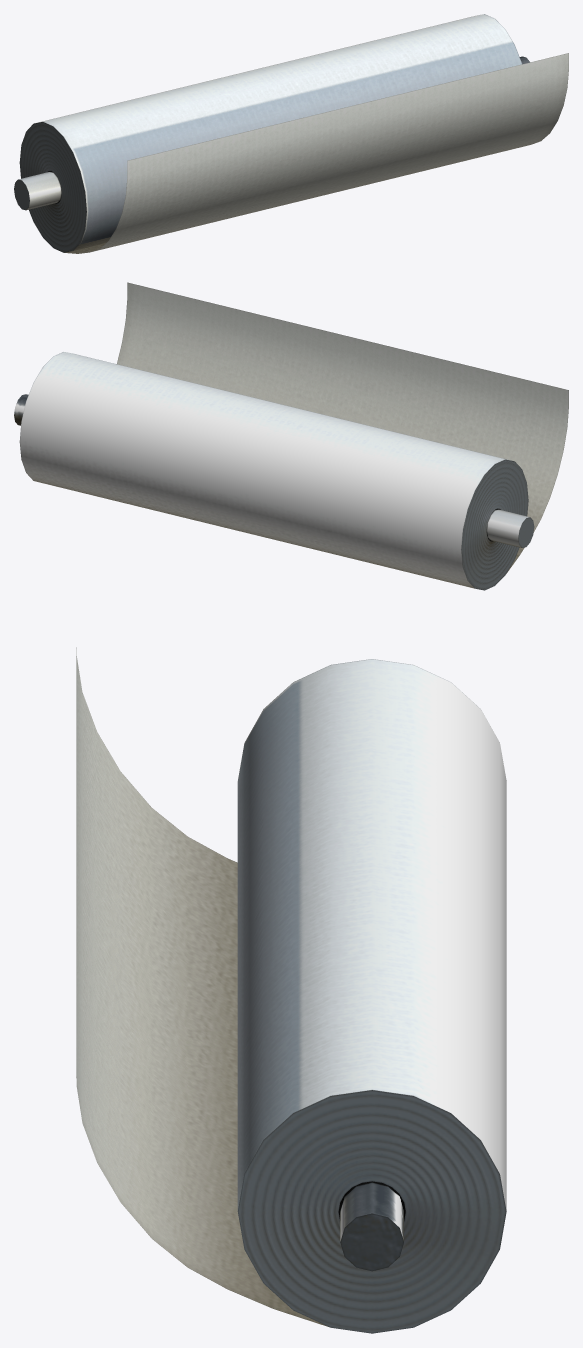
The model's file is cloth01.obj.
The picture shows the model from 3 angles, top to bottom: view 1: azimuth 30°, elevation 25°; view 2: azimuth 150°, elevation 25°; view 3: azimuth 270°, elevation 25°; orthographic projection. The views are drawn at different scales.
Parts seen in each view (by area): view 1: cloth01:bu_juan1; view 2: cloth01:bu_juan1; view 3: cloth01:bu_juan1.
Boxes of the visible parts, box(x1,y1,x2,y2) form: cloth01:bu_juan1: box(14, 14, 568, 253); cloth01:bu_juan1: box(14, 282, 568, 590); cloth01:bu_juan1: box(76, 647, 506, 1333).
Size of the model in its own units: 5.86 by 1.57 by 2.16.
Materials: 1 (1 with a texture image).
